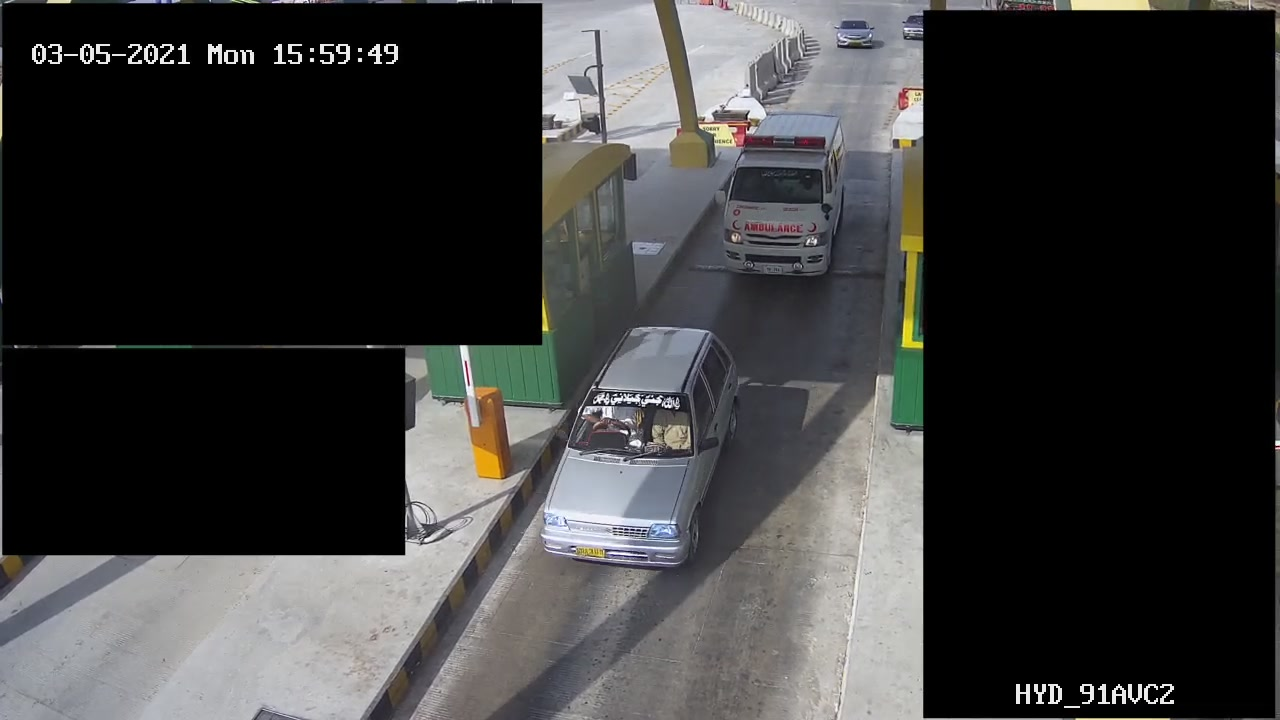F2: (707, 112, 848, 286)
